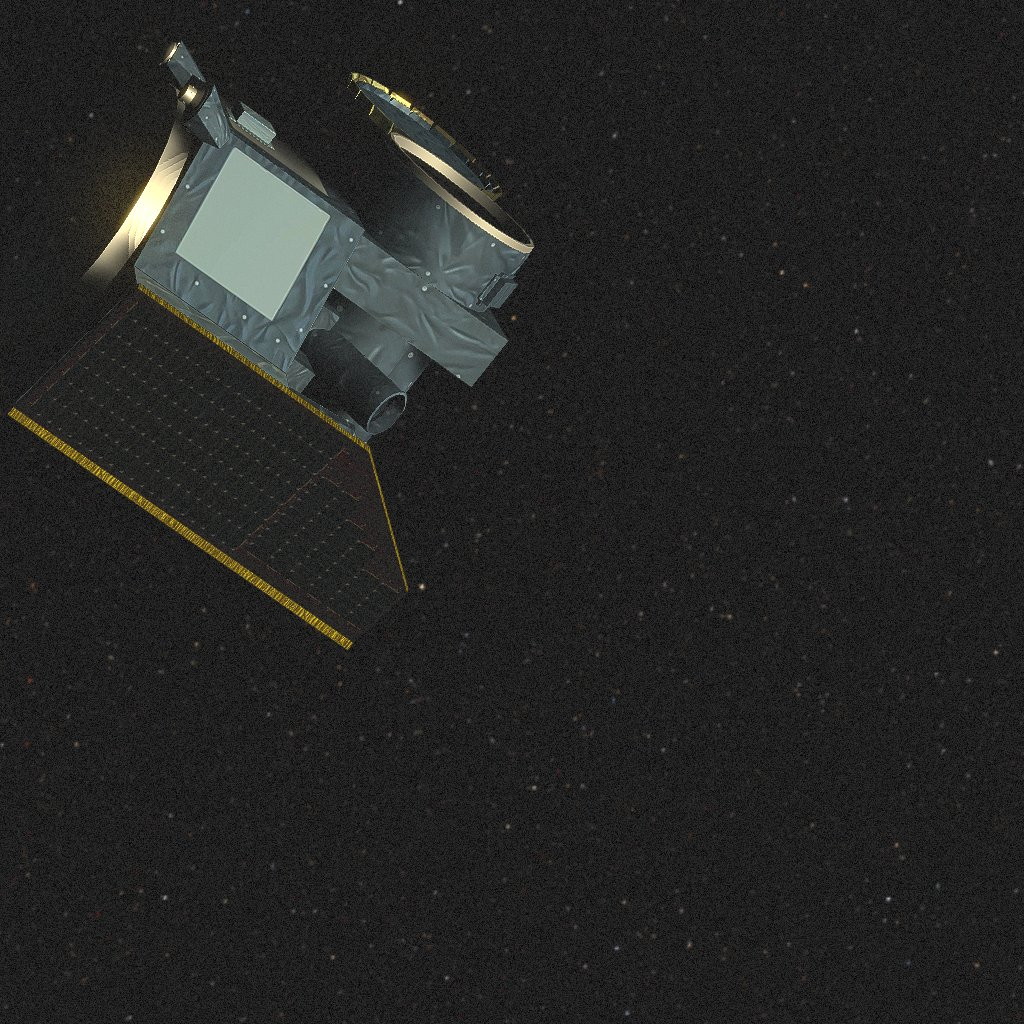cheops: (20, 47, 534, 634)
